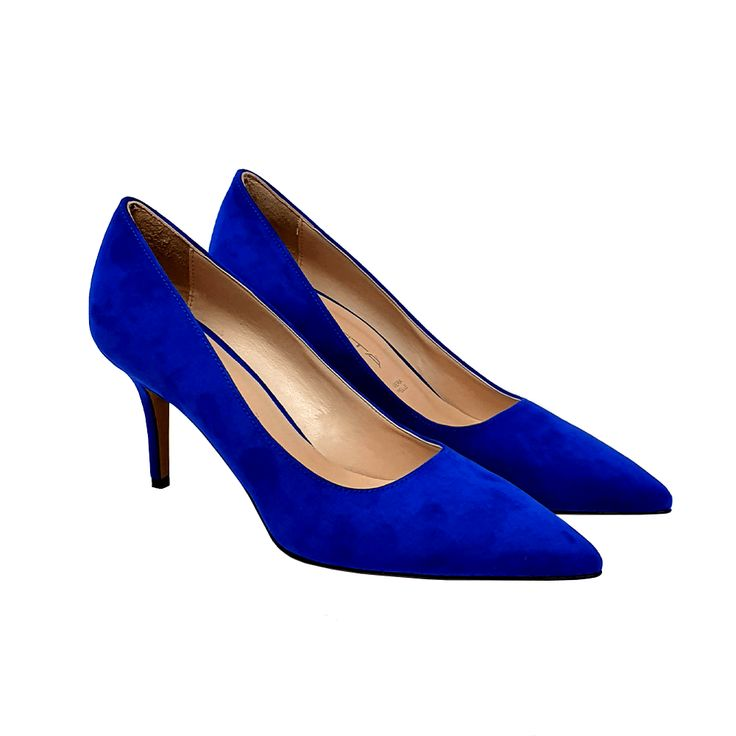gamuza: (89, 168, 673, 581)
